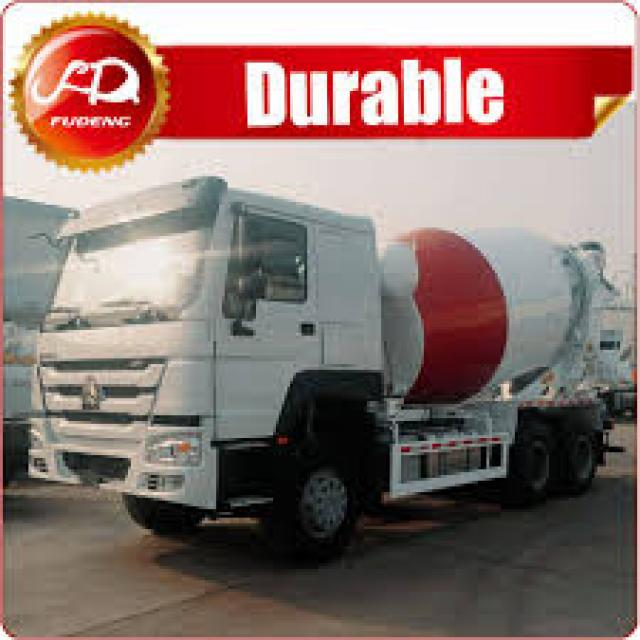Mixer Truck: (27, 172, 629, 556)
